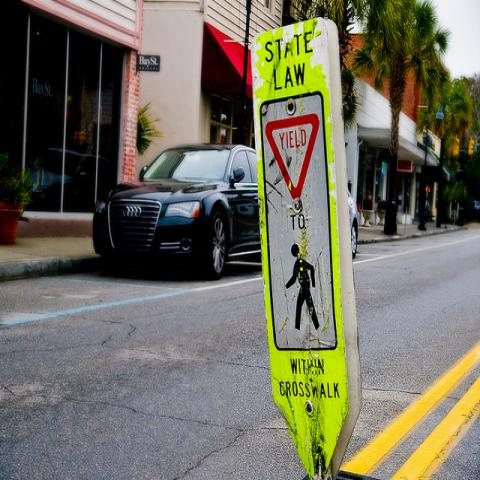car: (91, 142, 263, 281), (348, 188, 358, 258), (474, 201, 480, 210)
